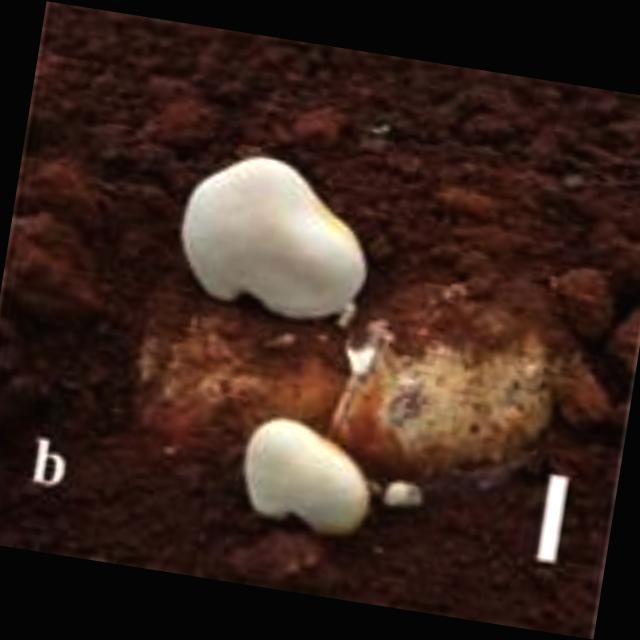primordium: (169, 142, 387, 331), (233, 412, 386, 546), (381, 476, 431, 518)
